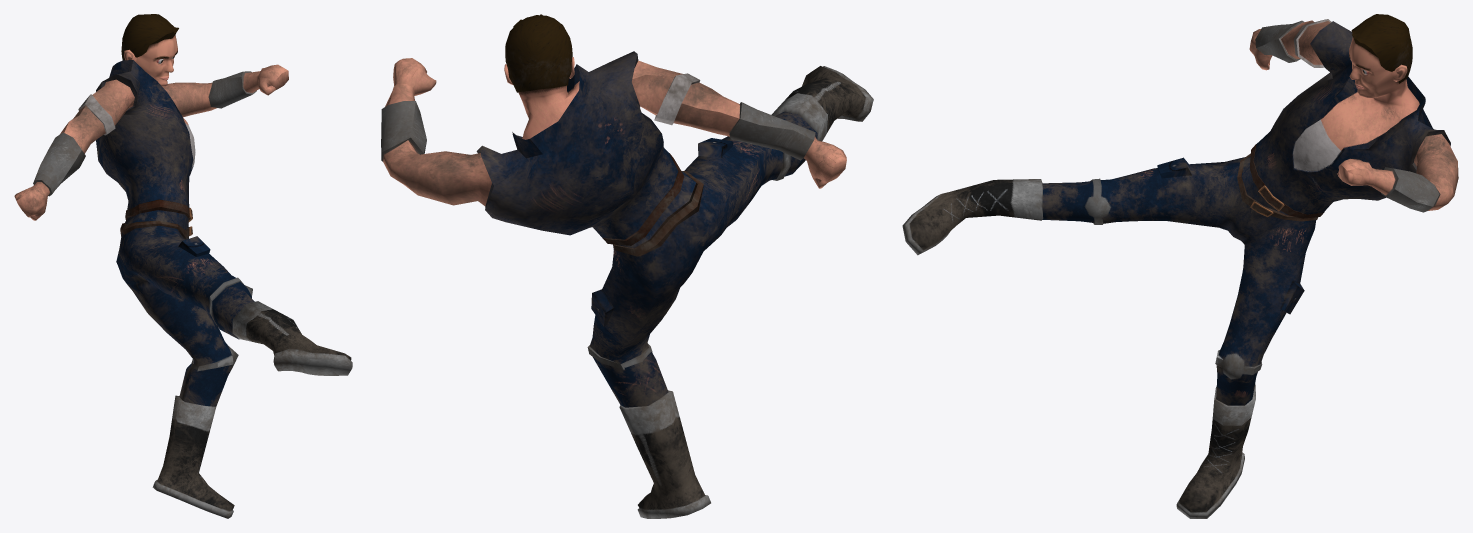
Rendered from Anim_ataque_f1_jugador.0018.obj.
3 renders of one model, left to right at view 1: azimuth 30°, elevation 25°; view 2: azimuth 150°, elevation 25°; view 3: azimuth 270°, elevation 25°, orthographic. The views are drawn at different scales.
Parts seen in each view (by area): view 1: polySurface1; view 2: polySurface1; view 3: polySurface1.
Part boxes in pixels (x1,y1,x2,y2): polySurface1: (14, 14, 352, 518); polySurface1: (381, 14, 873, 518); polySurface1: (902, 14, 1458, 518).
Size of the model in its own units: 6.61 by 8.95 by 8.98.
